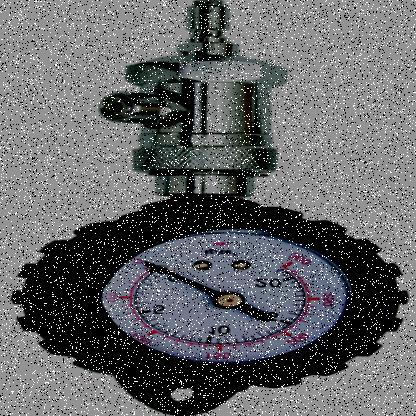needle: (142, 261, 222, 297)
